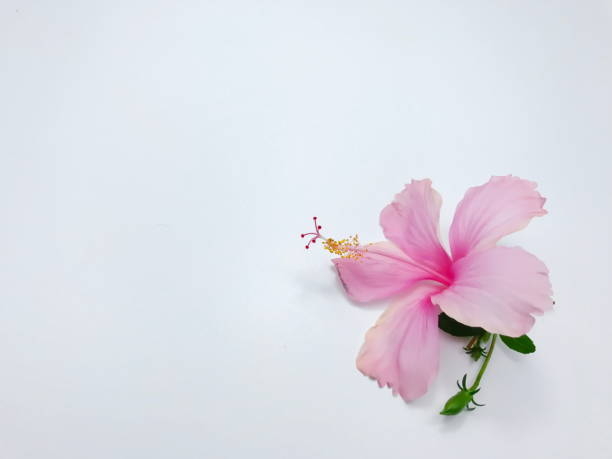Hibiscus: (295, 167, 579, 437)
